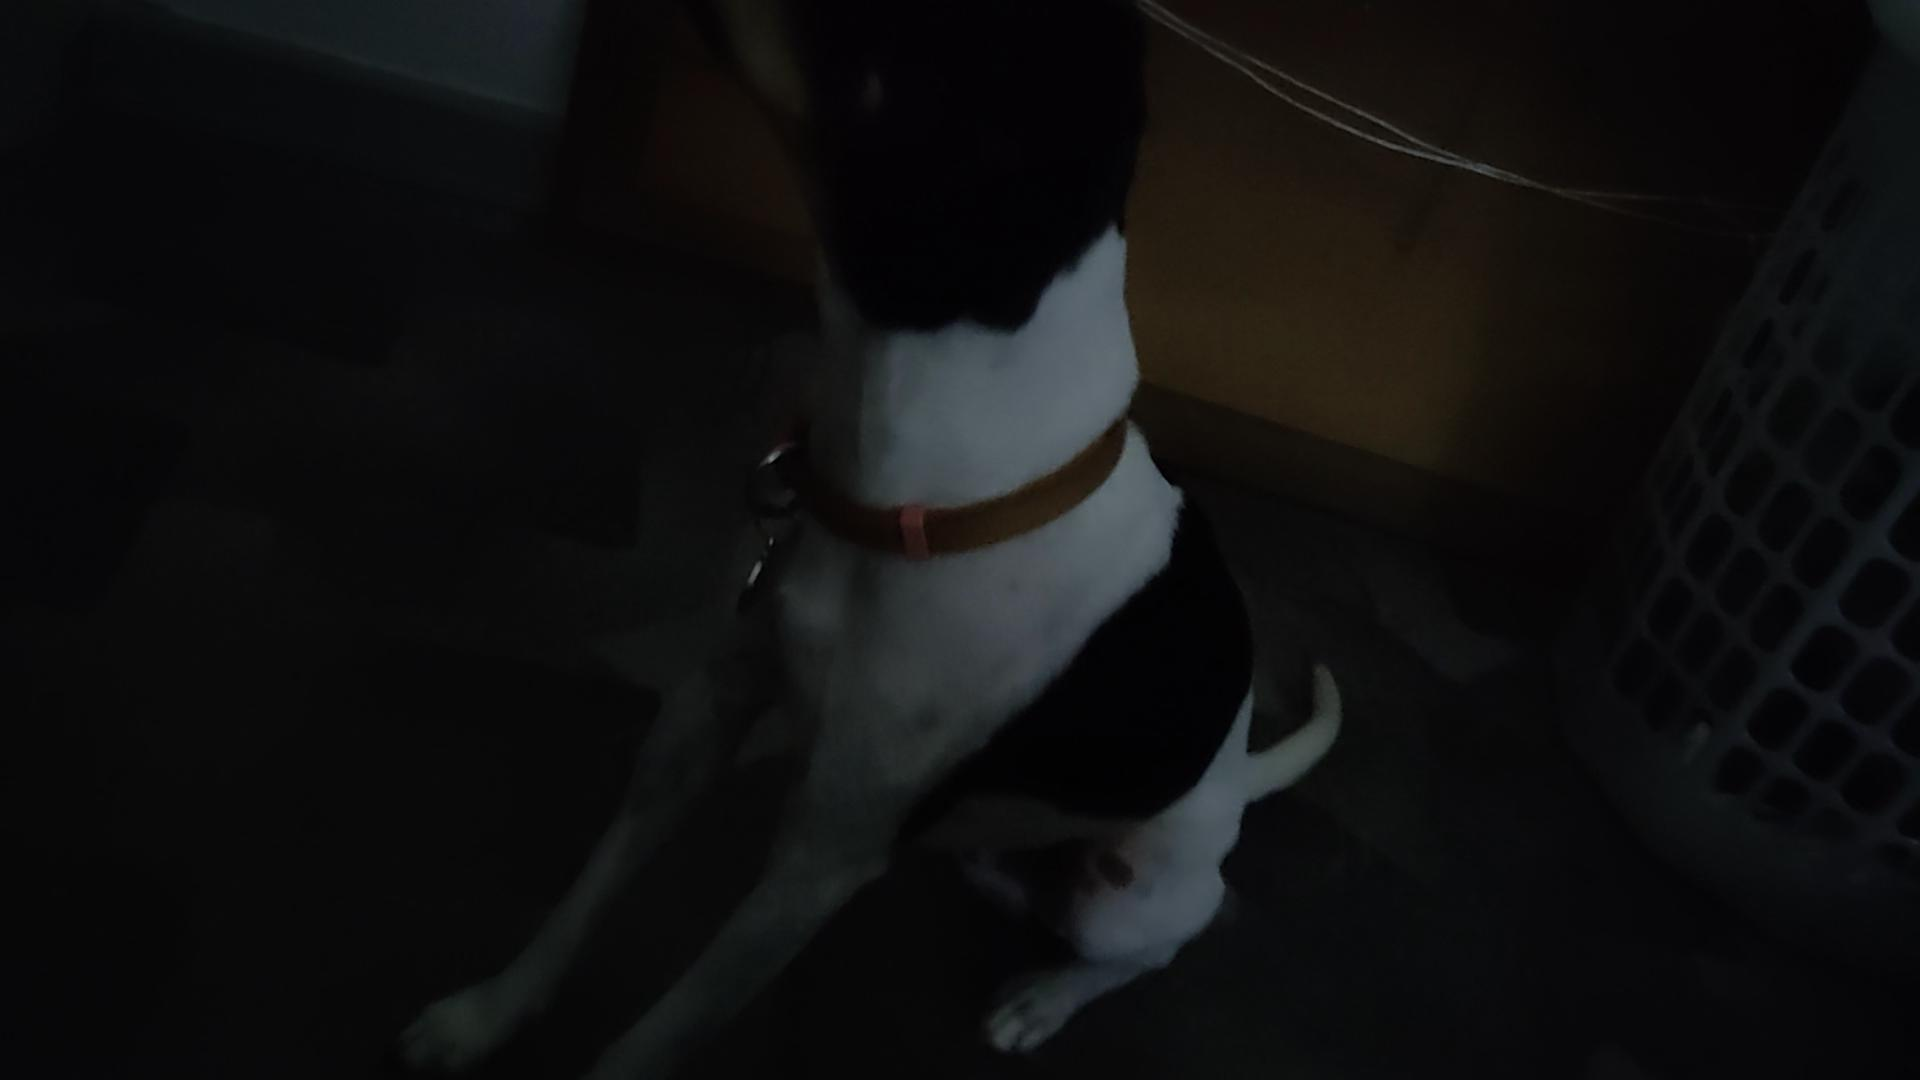Dog: (380, 0, 1360, 1079)
